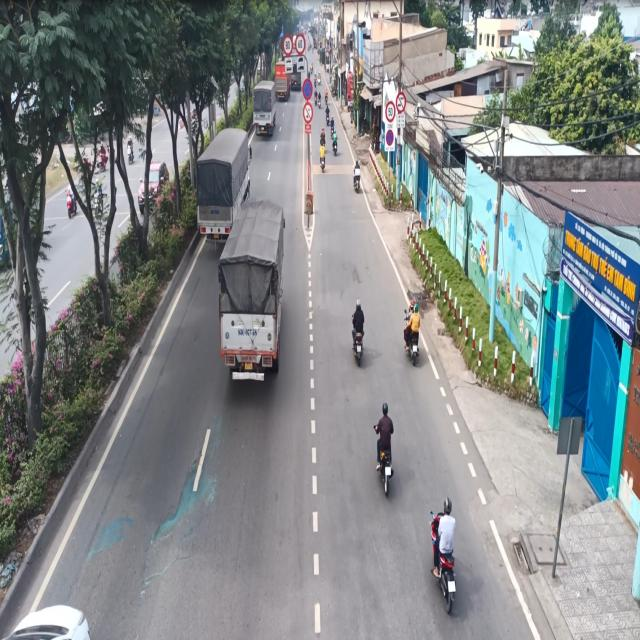motor: (426, 490, 468, 620), (375, 389, 398, 511), (398, 290, 426, 371), (347, 294, 366, 370)
truck: (218, 194, 285, 389), (195, 122, 253, 236), (251, 76, 277, 136)
